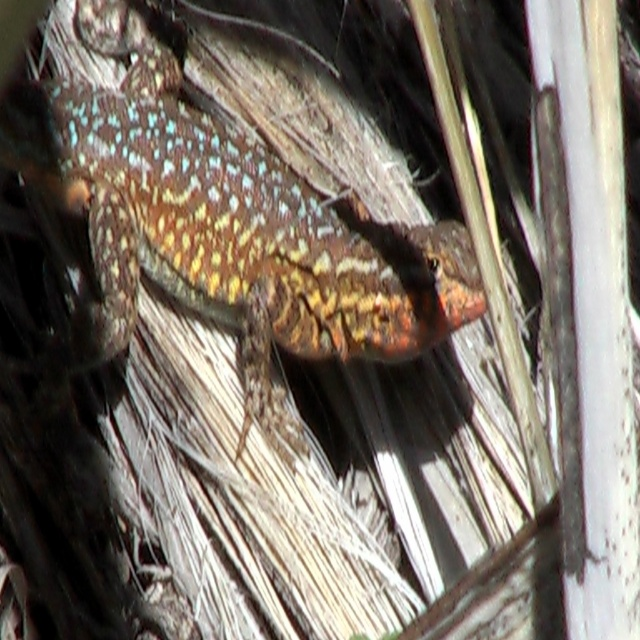Lizard: (0, 0, 489, 463)
